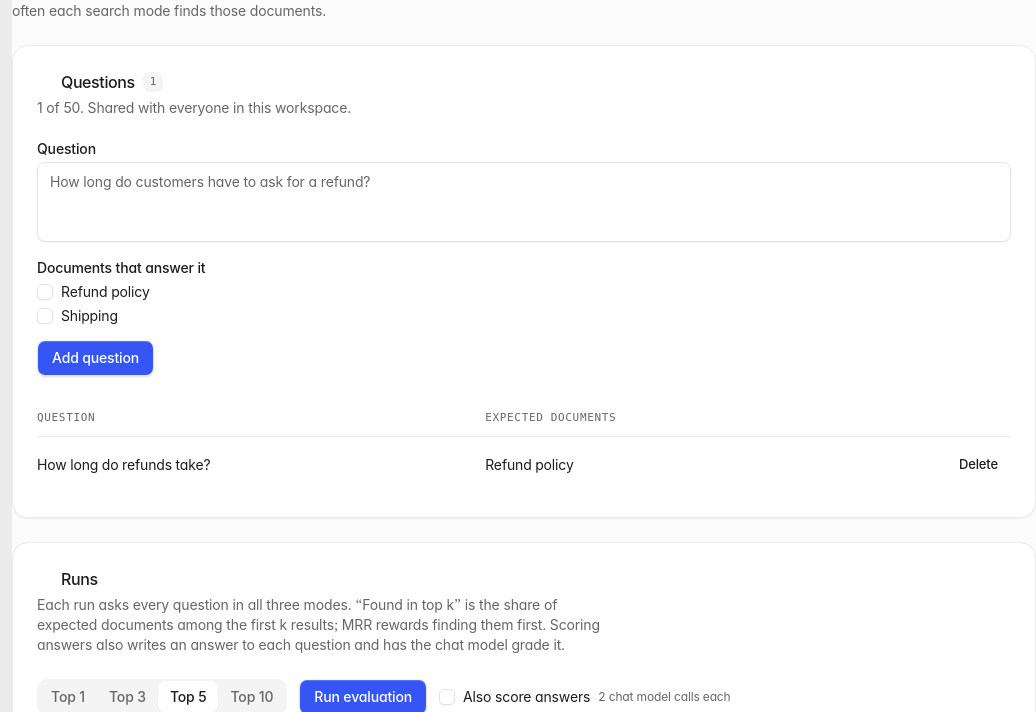
Scenario: EvaluationsContainer (mocked API) › a run shows each mode's score and where each question's document ranked
The width and height of the screenshot is (1036, 712).
Step 1. Click the button "Top 3" → (127,696), box [97,680,158,711]
(page scrolled)
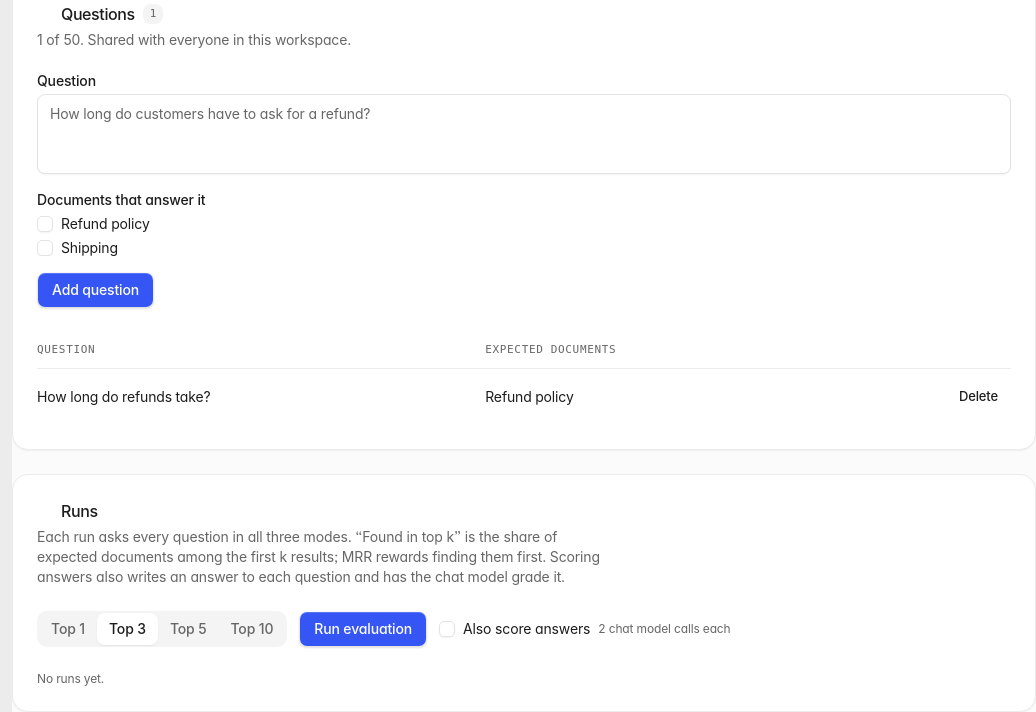
Step 2. Click the button "Run evaluation" → (363,628), box [299,610,427,646]
(page scrolled)
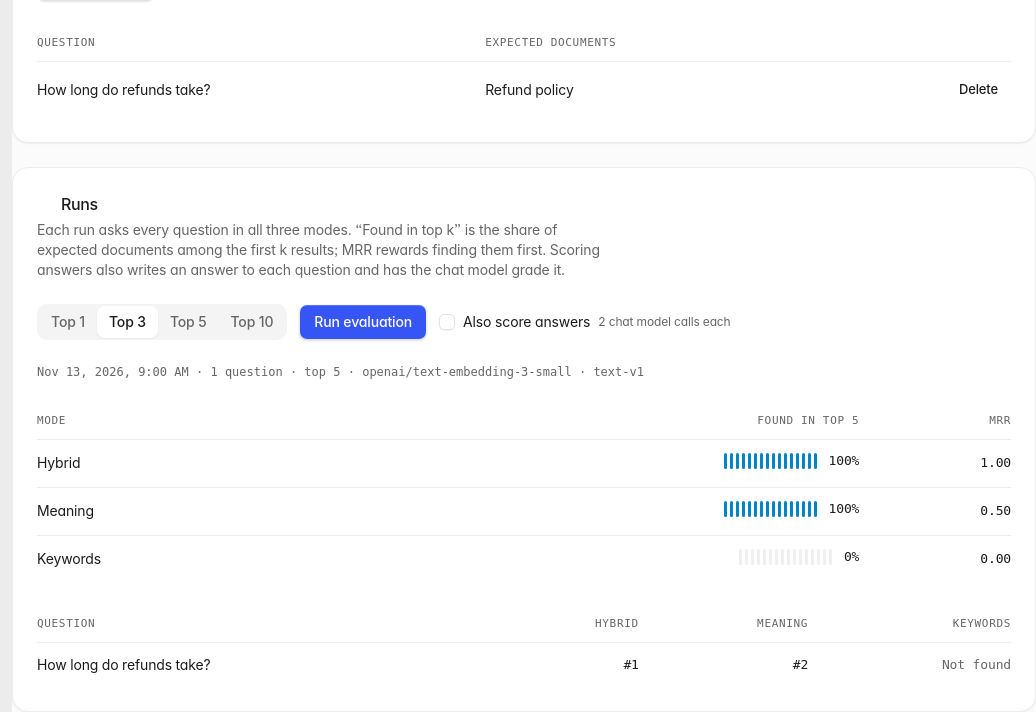
Expected: the row "Hybrid 100% 1.00" is shown, [37,440,1011,487]
Expected: the row "Meaning 100% 0.50" is shown, [37,487,1011,535]
Expected: the text "#1" is shown, [496,643,647,687]
